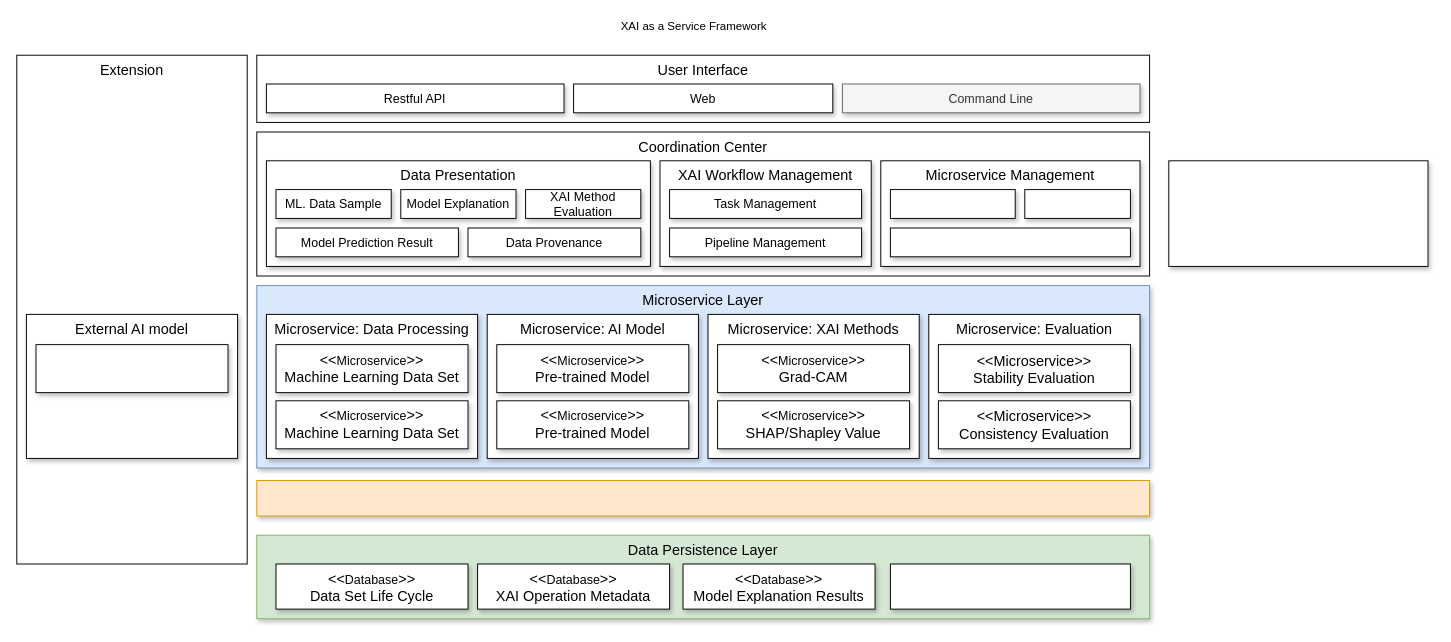
Some shapes in this 1451 by 642 pixel diagram are drawn without their labels. Here are the shapes that lost their labels. From the top down, the centre of each, then its label:
At point 953,205: "Service Registration".
At point 1078,205: "Service Update".
At point 1299,214: "User Management".
At point 1011,243: "Service Remove".
At point 132,369: "<< Microservice >> Azure Cognative Servise".
At point 703,499: "Parallel Process Layer".
At point 1011,587: "<< Database >> XAI Method Evaluation Results".
